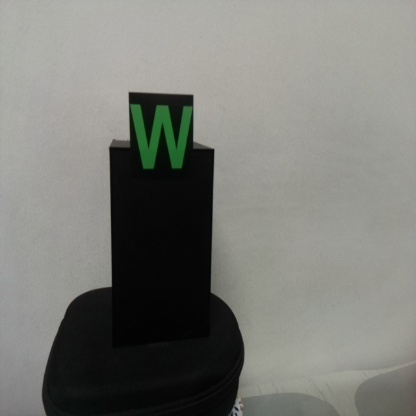id_12: (128, 91, 195, 192)
